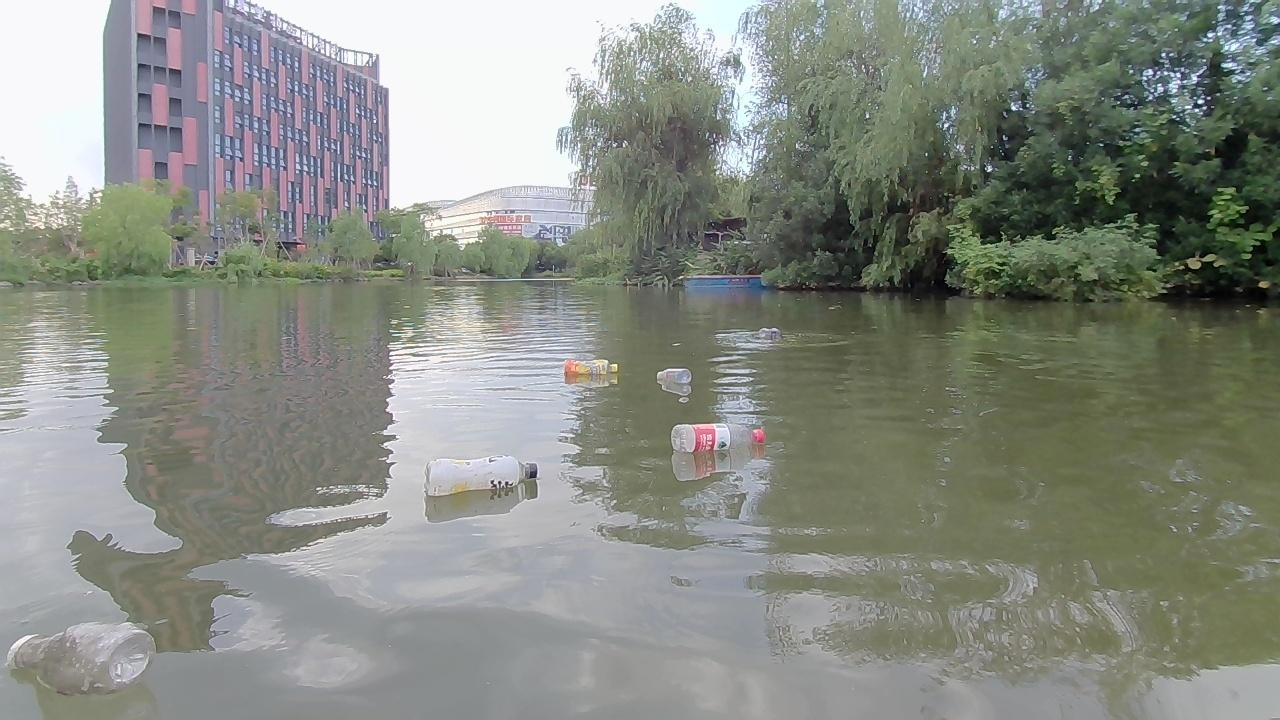bottle: (420, 452, 541, 496), (668, 418, 765, 454), (560, 354, 620, 378), (653, 363, 694, 385), (757, 323, 784, 340)
